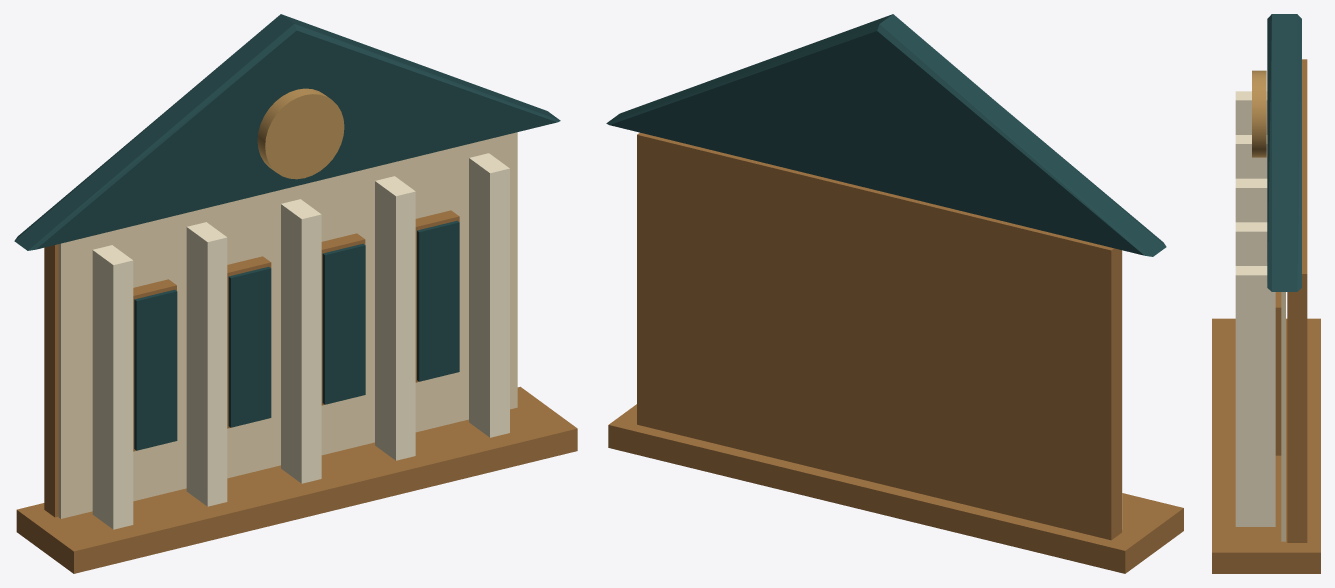
File: academy.glb
3 views of the same model, side by side, from view 1: azimuth 30°, elevation 25°; view 2: azimuth 150°, elevation 25°; view 3: azimuth 270°, elevation 25° (orthographic). The views are drawn at different scales.
Parts seen in each view (by area): view 1: facade-face, pediment, steps, column-1, column-0, column-2, column-3, column-4, window-0-face, window-1-face, window-2-face, window-3-face (+6 smaller); view 2: facade-corrugation, pediment, steps; view 3: steps, column-4, pediment, facade-corrugation, column-2, column-3, clock, facade-face, window-3-corrugation, column-1, column-0.
Part boxes in pixels (bbox=[...]): facade-face: bbox=[58, 132, 517, 518]; pediment: bbox=[14, 14, 560, 250]; steps: bbox=[16, 386, 577, 573]; column-1: bbox=[186, 222, 227, 506]; column-0: bbox=[92, 245, 133, 529]; column-2: bbox=[281, 199, 321, 483]; column-3: bbox=[375, 176, 415, 460]; column-4: bbox=[469, 153, 509, 437]; window-0-face: bbox=[134, 289, 177, 450]; window-1-face: bbox=[228, 266, 271, 427]; window-2-face: bbox=[322, 244, 365, 404]; window-3-face: bbox=[417, 220, 459, 381]; facade-corrugation: bbox=[637, 132, 1121, 540]; pediment: bbox=[606, 14, 1166, 256]; steps: bbox=[608, 404, 1183, 573]; steps: bbox=[1212, 318, 1320, 573]; column-4: bbox=[1235, 266, 1275, 526]; pediment: bbox=[1267, 14, 1301, 291]; facade-corrugation: bbox=[1287, 59, 1307, 542]; column-2: bbox=[1235, 178, 1267, 222]; column-3: bbox=[1235, 222, 1267, 265]; clock: bbox=[1252, 70, 1266, 157]; facade-face: bbox=[1281, 292, 1285, 541]; window-3-corrugation: bbox=[1275, 292, 1281, 455]; column-1: bbox=[1235, 135, 1267, 178]; column-0: bbox=[1235, 91, 1267, 134].
Size of the model in its own units: 3.23 by 2.69 by 0.6.
